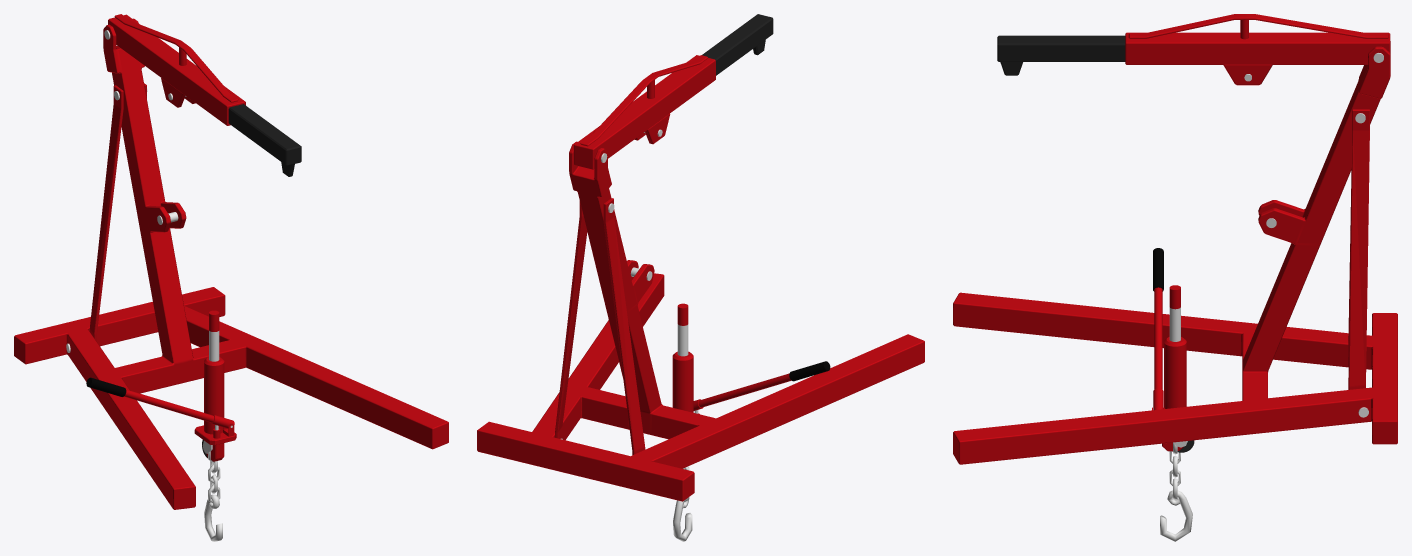
Rendered from hoist.dae.
3 renders of one model, left to right at view 1: azimuth 30°, elevation 25°; view 2: azimuth 150°, elevation 25°; view 3: azimuth 270°, elevation 25°, orthographic. The views are drawn at different scales.
Parts seen in each view (by area): view 1: lift_main, lift_arm, hydraulic, brace, slide_arm, chain; view 2: lift_main, lift_arm, brace, hydraulic, slide_arm, chain; view 3: lift_main, lift_arm, brace, hydraulic, slide_arm, chain.
Boxes of the visible parts, <box> form: lift_main: <box>14,18,448,509</box>; lift_arm: <box>108,14,245,125</box>; hydraulic: <box>86,310,236,461</box>; brace: <box>89,83,146,341</box>; slide_arm: <box>228,104,301,176</box>; chain: <box>204,451,222,541</box>; lift_main: <box>477,141,924,501</box>; lift_arm: <box>573,55,715,169</box>; brace: <box>555,198,645,455</box>; hydraulic: <box>672,303,830,414</box>; slide_arm: <box>702,14,773,75</box>; chain: <box>673,466,692,541</box>; lift_main: <box>953,41,1397,464</box>; lift_arm: <box>1125,14,1390,85</box>; brace: <box>1348,109,1369,389</box>; hydraulic: <box>1152,248,1186,451</box>; slide_arm: <box>997,35,1125,75</box>; chain: <box>1160,443,1192,541</box>.
Bounding box in the file's own units: 1.25 × 1.57 × 2.06.
